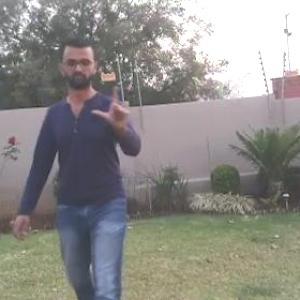land_hand: (89, 80, 134, 126)
